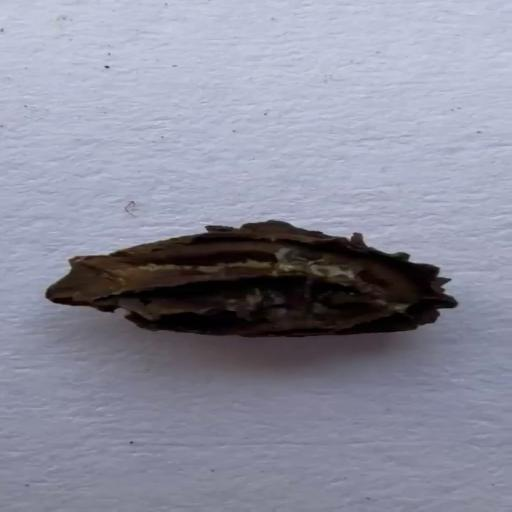papaya_seed: (26, 207, 488, 356)
